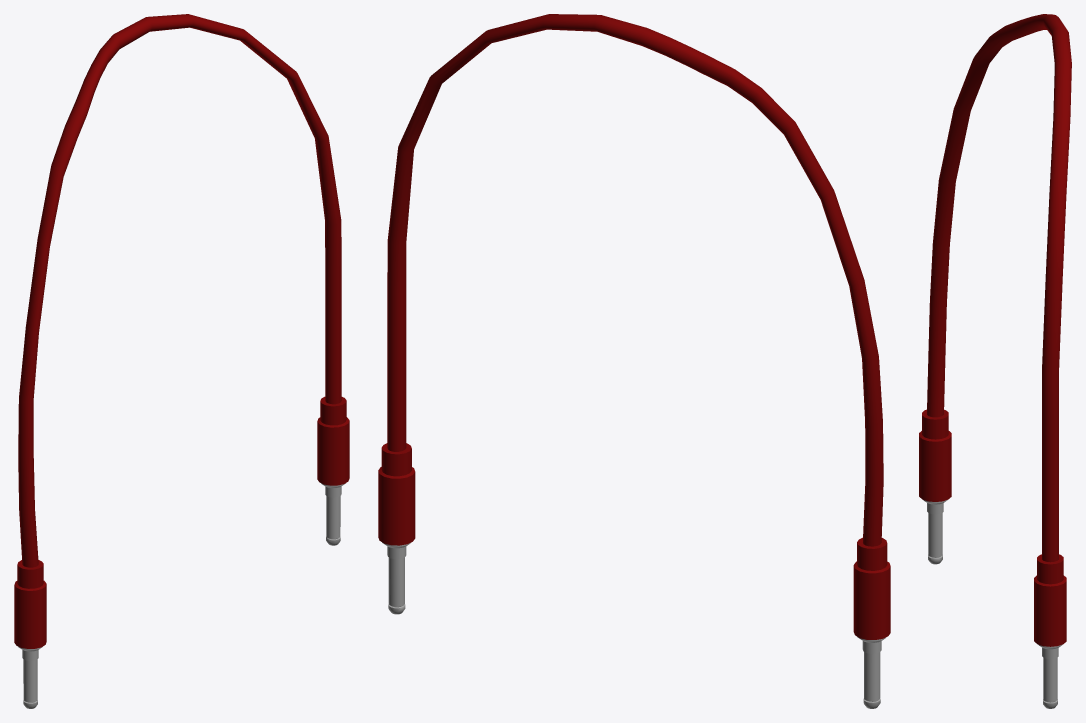
The model's file is Red_wire.gltf.
3 views of the same model, side by side, from view 1: azimuth 30°, elevation 25°; view 2: azimuth 150°, elevation 25°; view 3: azimuth 270°, elevation 25° (orthographic). The views are drawn at different scales.
Visible parts, largest first — view 1: Wire_03; view 2: Wire_03; view 3: Wire_03.
Part boxes in pixels (<box>): Wire_03: <box>14,14,349,708</box>; Wire_03: <box>378,14,890,708</box>; Wire_03: <box>919,14,1071,708</box>.
Size of the model in its own units: 0.5476 by 0.8168 by 0.1807.
2 materials, 1 textured.
